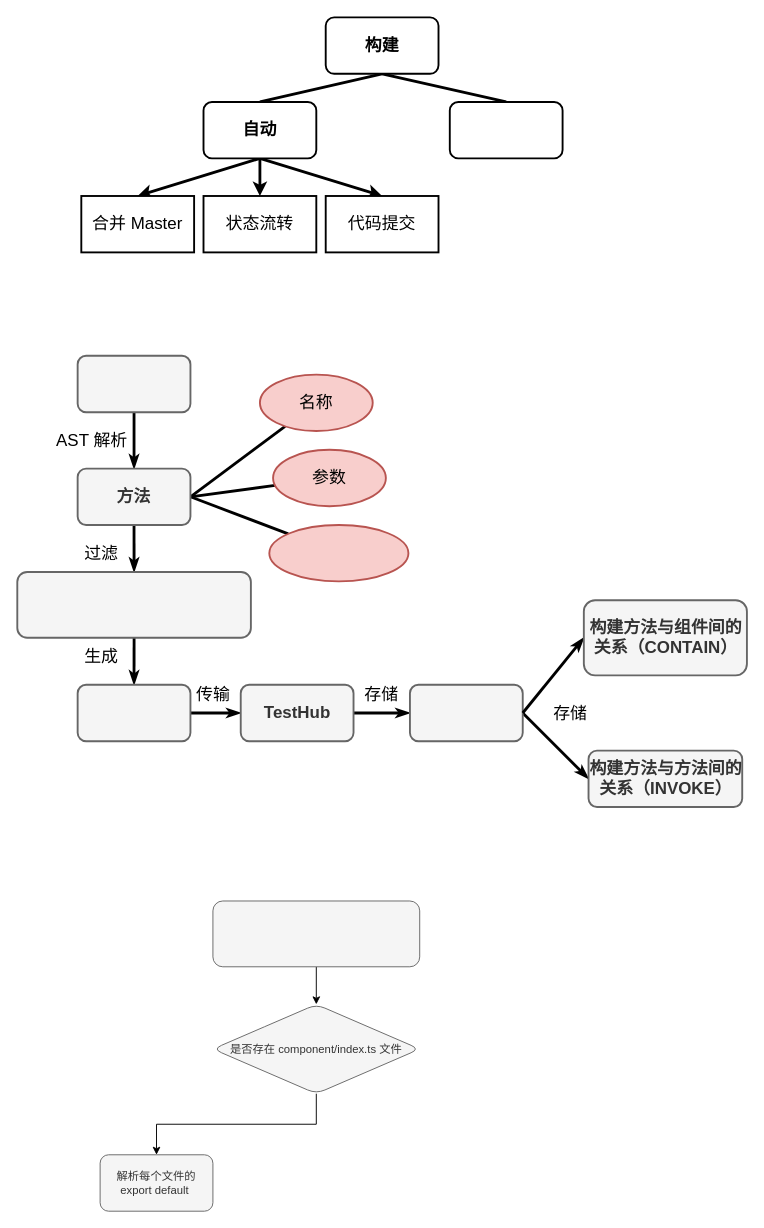
The diagram is 764 pixels wide and 1228 high, and some of its shapes have lost their labels. The centre of each missing label's shape, as x and y in pixels:
匹配组件导包资源，判断哪些资源是在方法内被调用的: [133,604]
存储方法节点: [466,712]
手动: [505,130]
方法体调用函数: [338,553]
方法节点: [133,712]
解析基础组件库导出组件名称: [316,933]
解析组件: [133,383]
